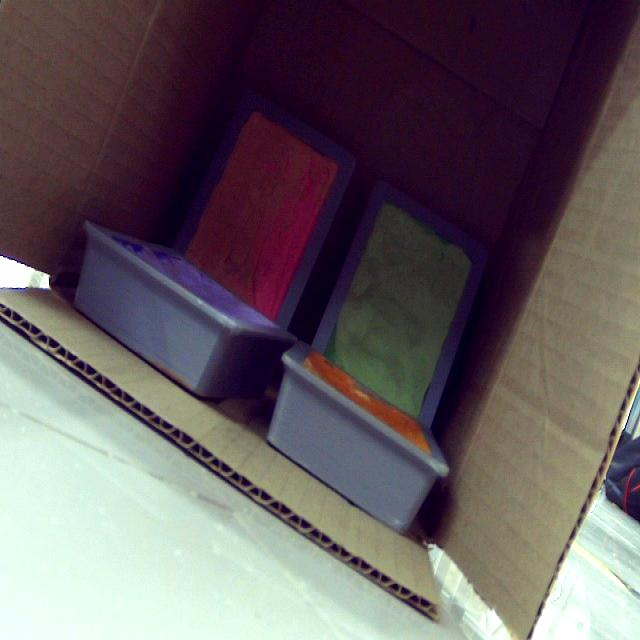block: (295, 182, 486, 432), (175, 96, 358, 329), (74, 222, 308, 404), (266, 340, 453, 536)
